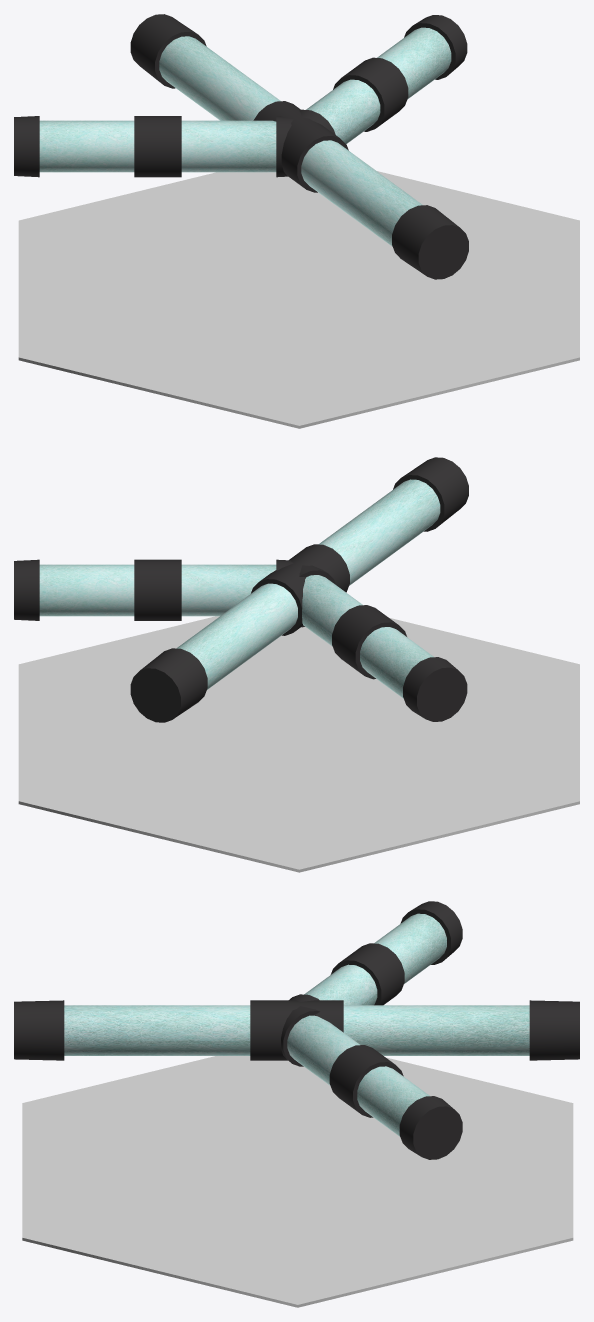
Rendered from four3.FBX.
3 views of the same model, one above another, from view 1: azimuth 30°, elevation 25°; view 2: azimuth 150°, elevation 25°; view 3: azimuth 270°, elevation 25° (orthographic).
Visible parts, largest first — view 1: Cylinder039, Cylinder036, Cylinder038, Cylinder037; view 2: Cylinder039, Cylinder036, Cylinder037, Cylinder038; view 3: Cylinder039, Cylinder036, Cylinder037, Cylinder038.
Part boxes in pixels (x1,y1,x2,y2): Cylinder039: (18, 171, 579, 428); Cylinder036: (130, 14, 468, 279); Cylinder038: (14, 116, 293, 177); Cylinder037: (299, 15, 467, 144); Cylinder039: (18, 616, 579, 872); Cylinder036: (130, 457, 468, 722); Cylinder037: (14, 559, 293, 620); Cylinder038: (299, 565, 467, 721); Cylinder039: (22, 1056, 573, 1307); Cylinder036: (14, 1000, 579, 1060); Cylinder037: (281, 1006, 462, 1159); Cylinder038: (289, 901, 462, 1005).
Bounding box in the file's own units: 100 × 29.5 × 88.94.
2 materials, 2 textured.
